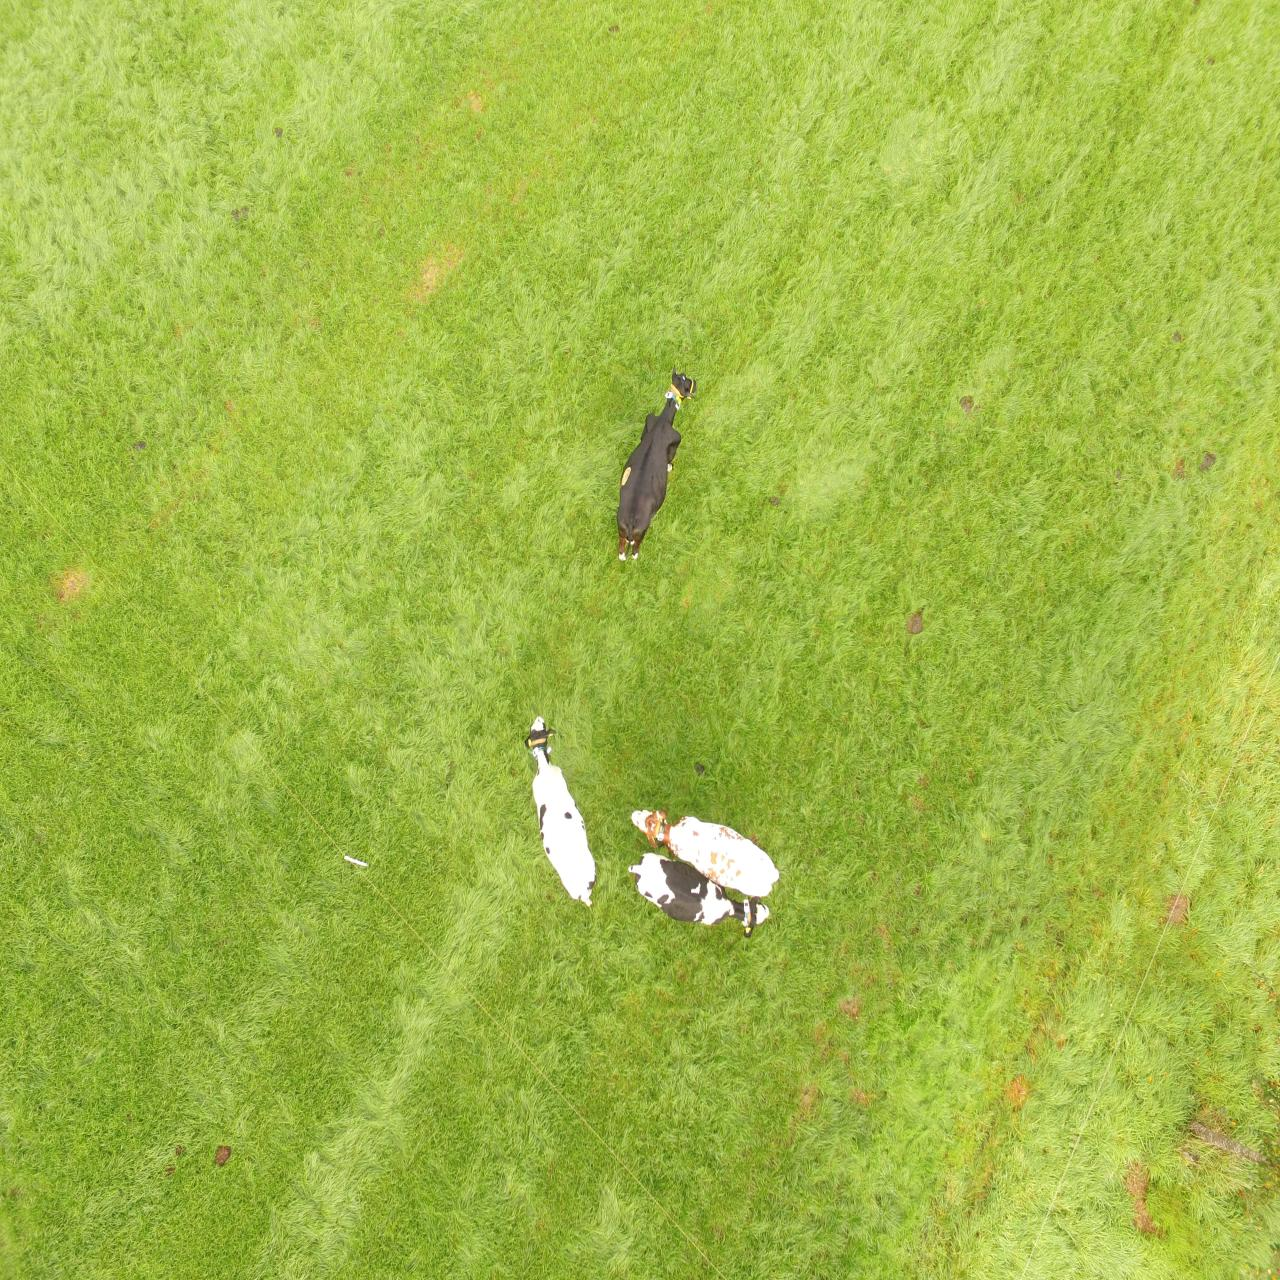cow: (612, 369, 699, 563), (524, 710, 610, 904), (627, 795, 782, 896), (620, 852, 775, 938)
